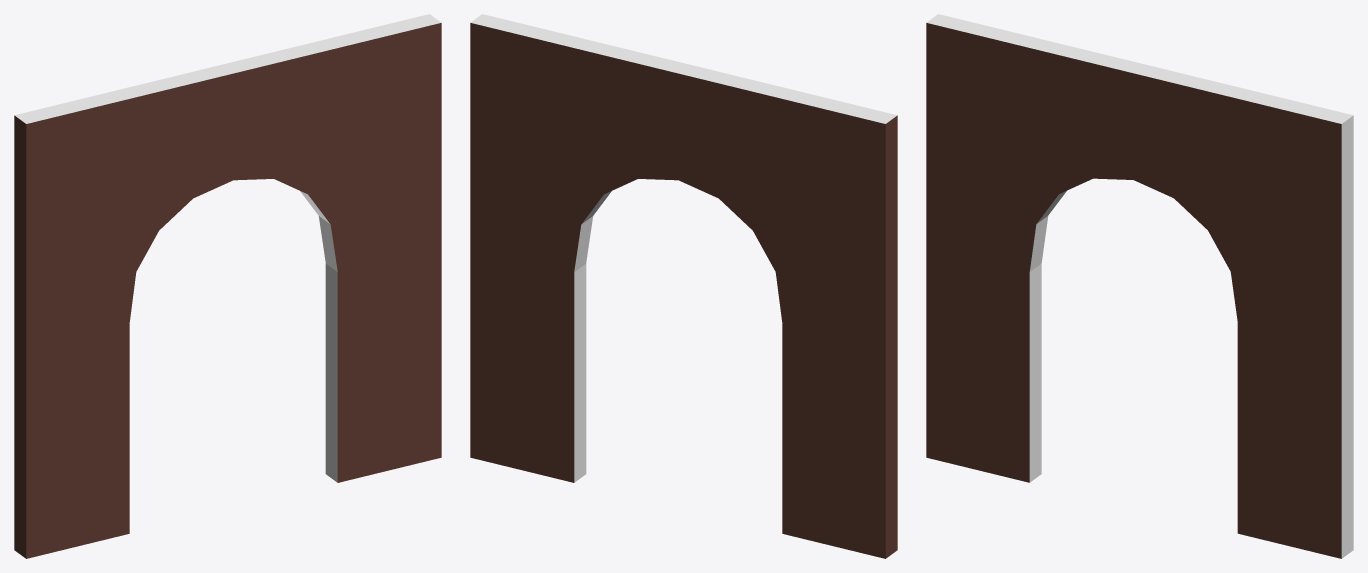
File: Walls_057.glb
The picture shows the model from 3 angles, left to right: view 1: azimuth 30°, elevation 25°; view 2: azimuth 150°, elevation 25°; view 3: azimuth 330°, elevation 25°; orthographic projection.
Visible parts, largest first — view 1: Walls_057; view 2: Walls_057; view 3: Walls_057.
Boxes of the visible parts, <box> form: Walls_057: <box>14,14,441,558</box>; Walls_057: <box>470,14,897,558</box>; Walls_057: <box>926,14,1353,558</box>.
Bounding box in the file's own units: 4 × 4 × 0.2.
1 material, 1 textured.
